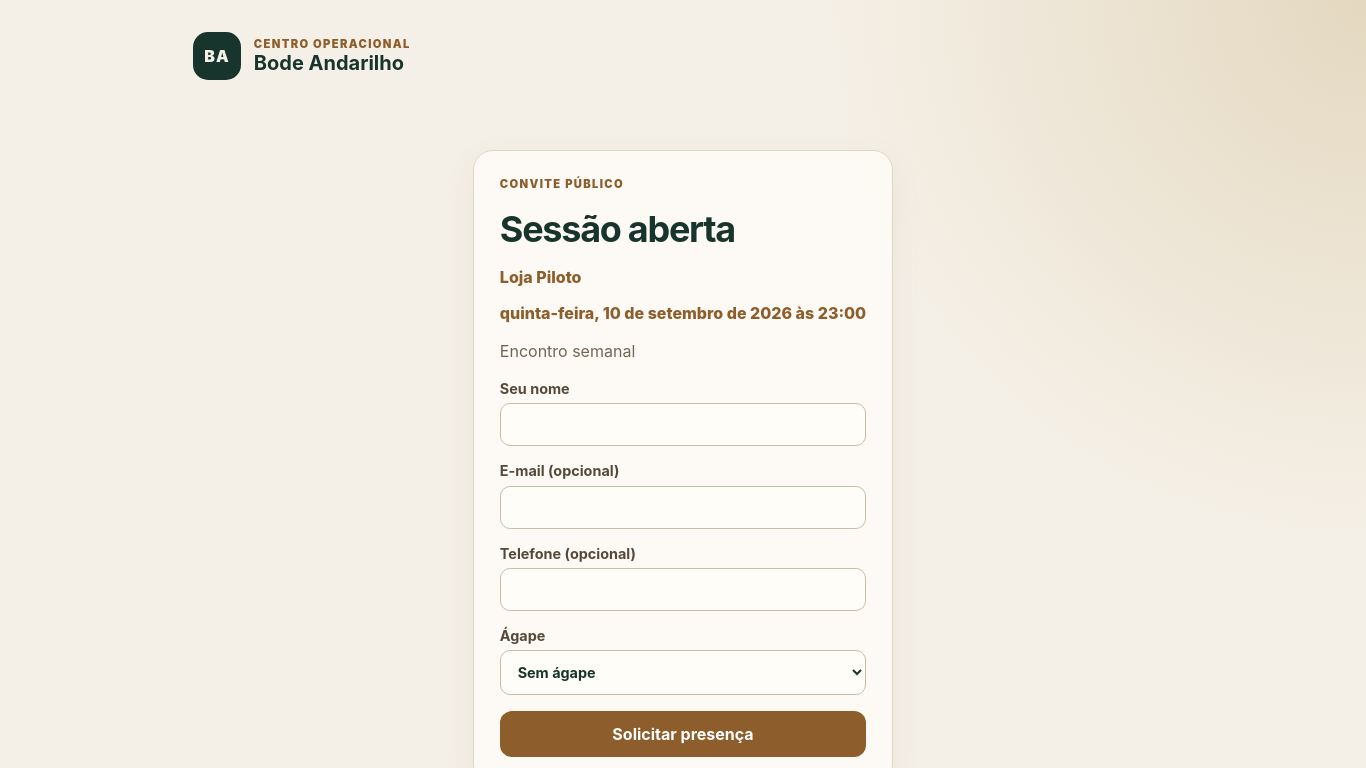
Test: componentes essenciais da PWA › envia uma solicitação pública pendente com chave de idempotência
Expected: the heading "Sessão aberta" is shown, [500, 207, 735, 251]
In the field labelled "Seu nome": (683, 425) [500, 403, 866, 446], type "Visitante Teste"
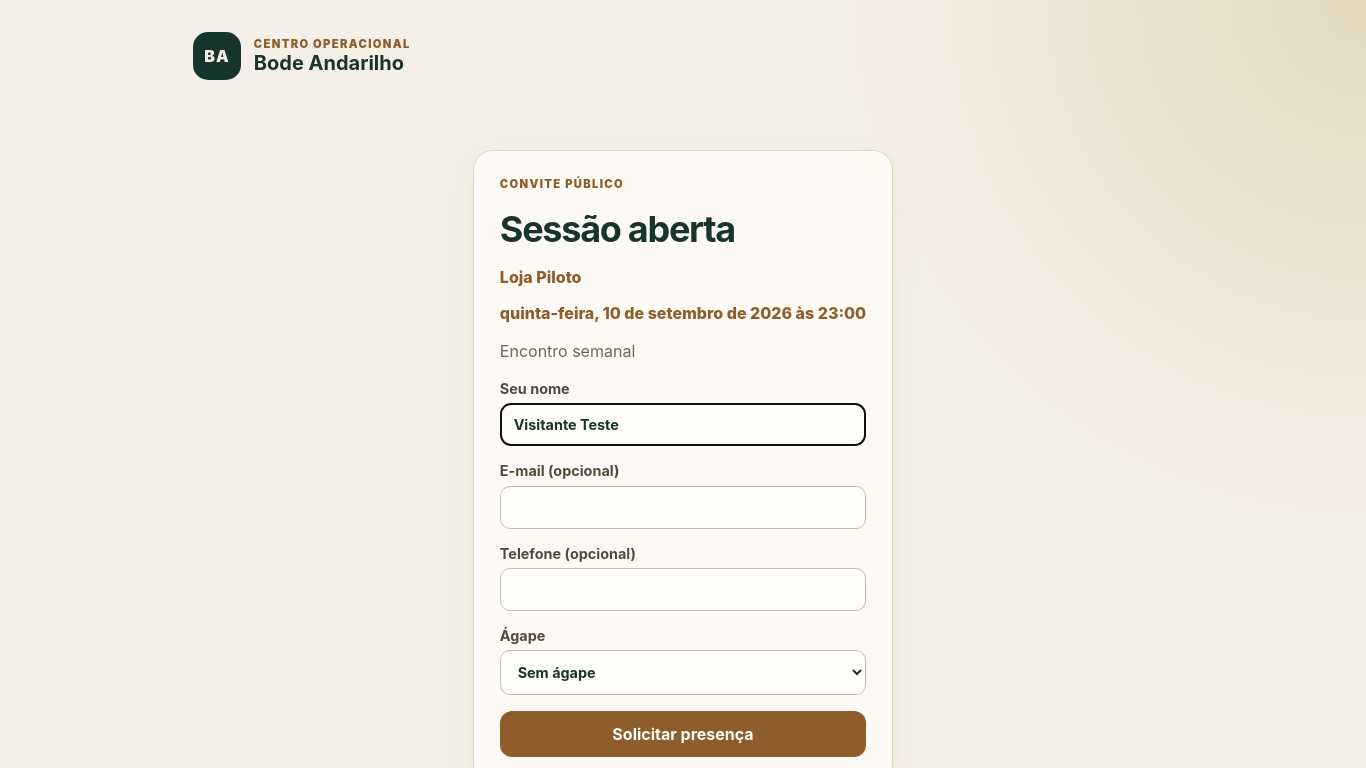
In the field labelled "E-mail (opcional)": (683, 507) [500, 486, 866, 529], type "visitante@example.com"
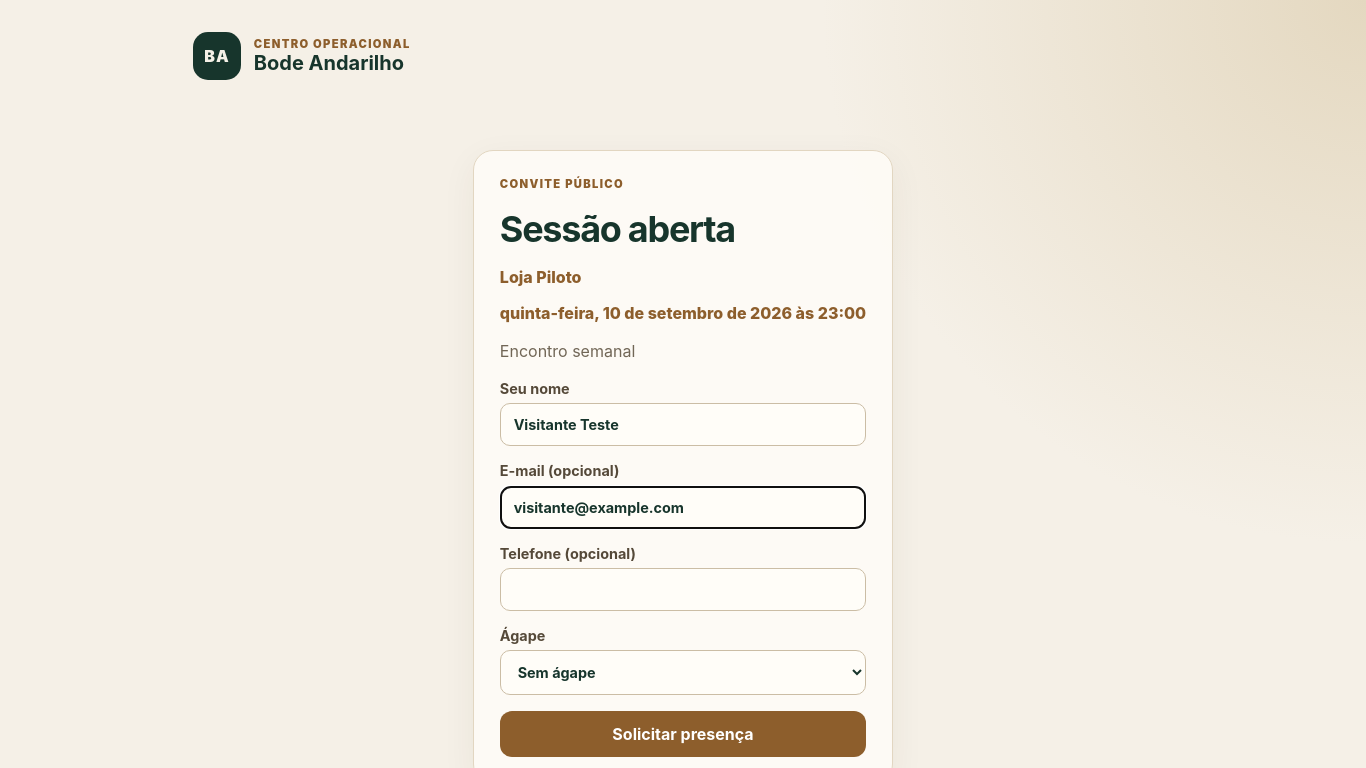
Click the button "Solicitar presença": (683, 734) [500, 711, 866, 757]
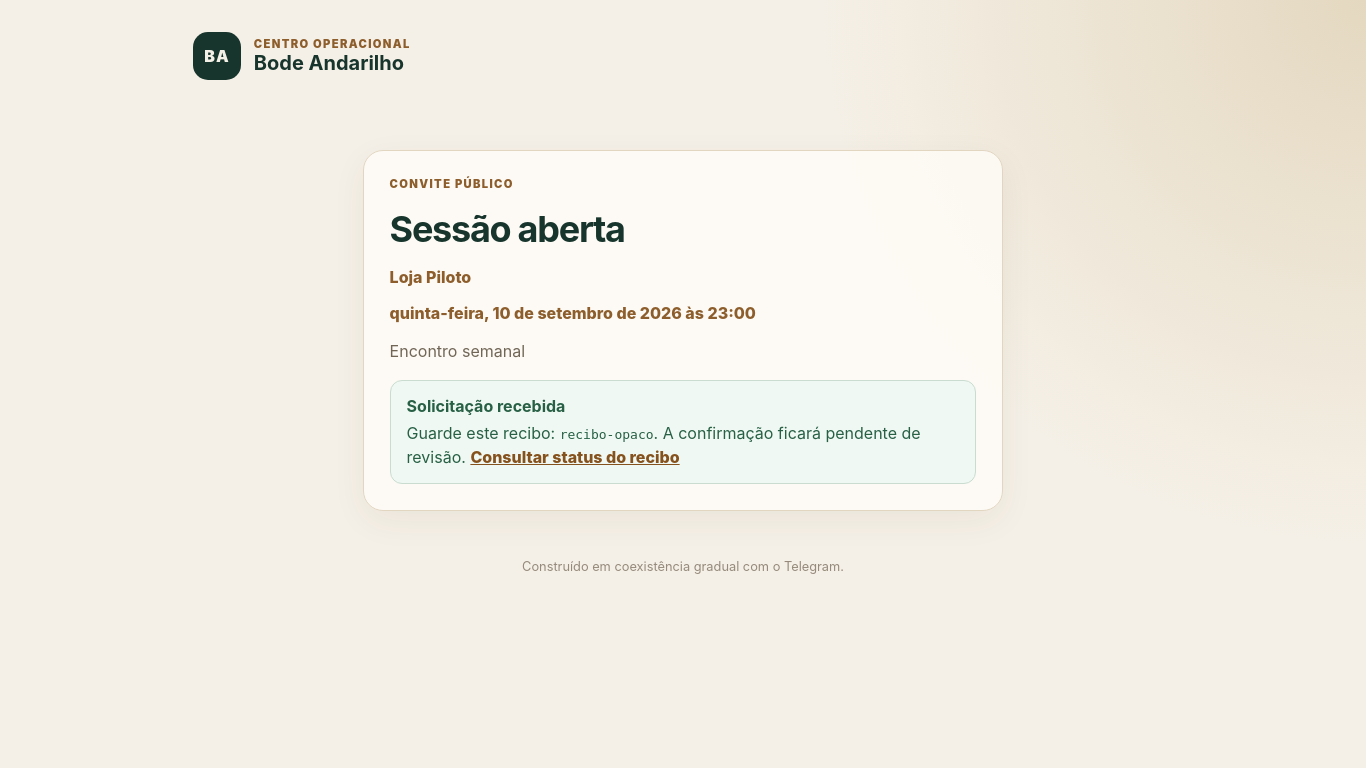
Result: the text "Solicitação recebida" is shown at [407, 396, 565, 416]
Result: the text "recibo-opaco" is shown at [560, 427, 654, 442]
